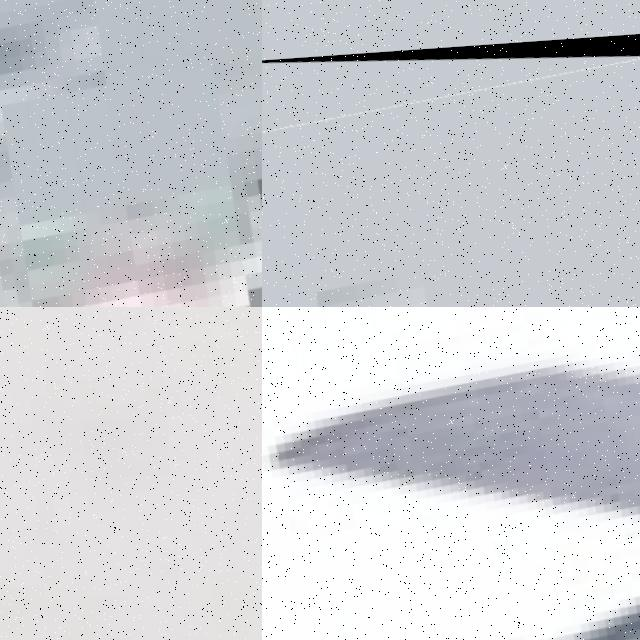drone: (262, 307, 640, 640), (262, 19, 640, 307), (0, 0, 262, 307)
